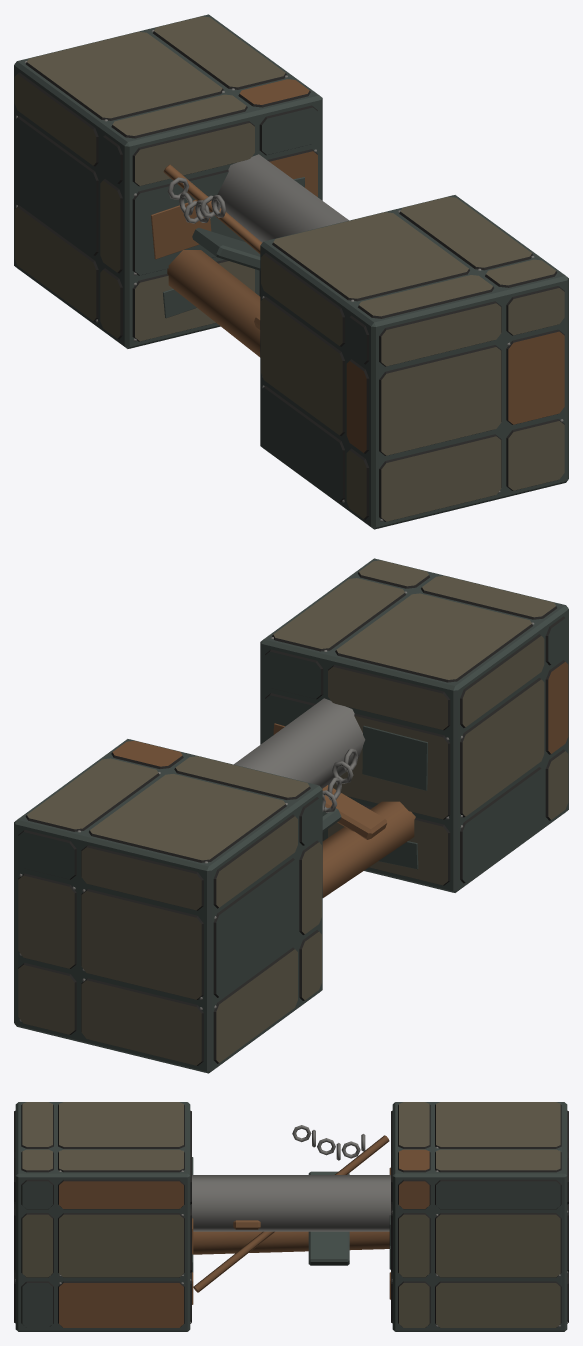
File: R4C_STRUT_STANDARD.fbx
3 views of the same model, one above another, from view 1: azimuth 30°, elevation 25°; view 2: azimuth 150°, elevation 25°; view 3: azimuth 270°, elevation 25° (orthographic). The views are drawn at different scales.
Visible parts, largest first — view 1: R4C_STRUT_STANDARD; view 2: R4C_STRUT_STANDARD; view 3: R4C_STRUT_STANDARD.
Part boxes in pixels (x1=…): R4C_STRUT_STANDARD: x1=14, y1=14, x2=568, y2=529; R4C_STRUT_STANDARD: x1=14, y1=558, x2=568, y2=1073; R4C_STRUT_STANDARD: x1=14, y1=1102, x2=568, y2=1331.
Size of the model in its own units: 0.52 by 0.52 by 1.62.
